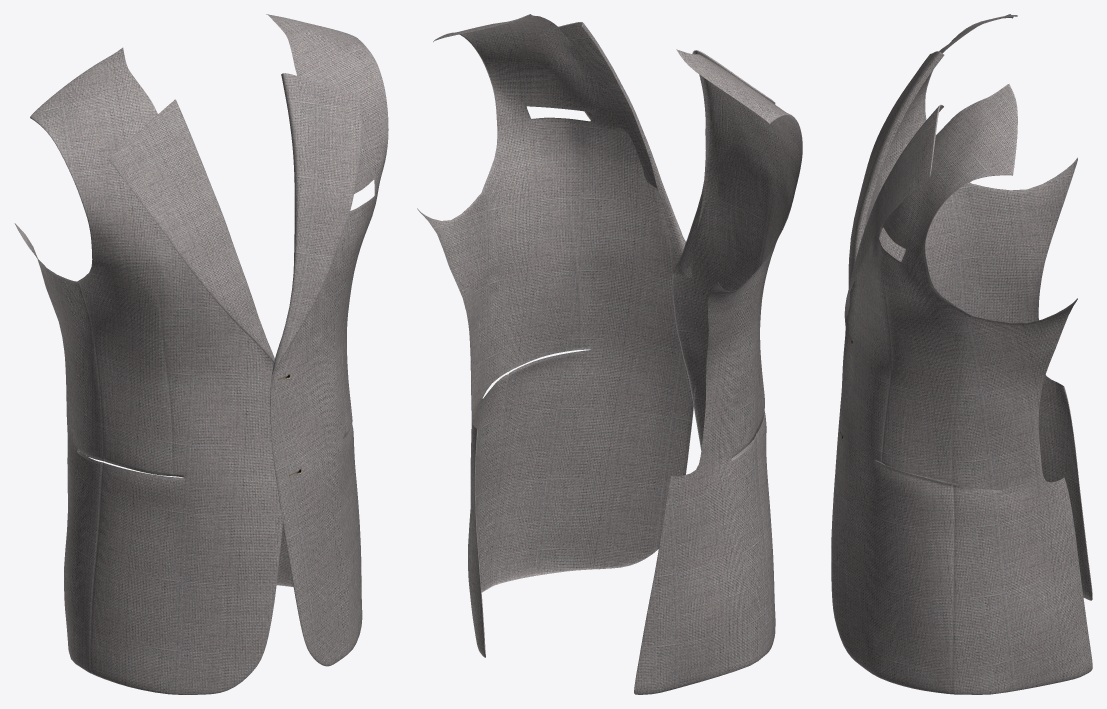
Rendered from notch_double_button_wide.glb.
3 views of the same model, side by side, from view 1: azimuth 30°, elevation 25°; view 2: azimuth 150°, elevation 25°; view 3: azimuth 270°, elevation 25° (orthographic). The views are drawn at different scales.
Visible parts, largest first — view 1: notch_double_button_wide1; view 2: notch_double_button_wide1; view 3: notch_double_button_wide1.
Boxes of the visible parts, x1,y1,x2,y2 form: notch_double_button_wide1: (14,14,388,694); notch_double_button_wide1: (417,14,802,694); notch_double_button_wide1: (831,14,1092,694).
Size of the model in its own units: 0.0585 by 0.102 by 0.0411.
Materials: 2 (2 with a texture image).
